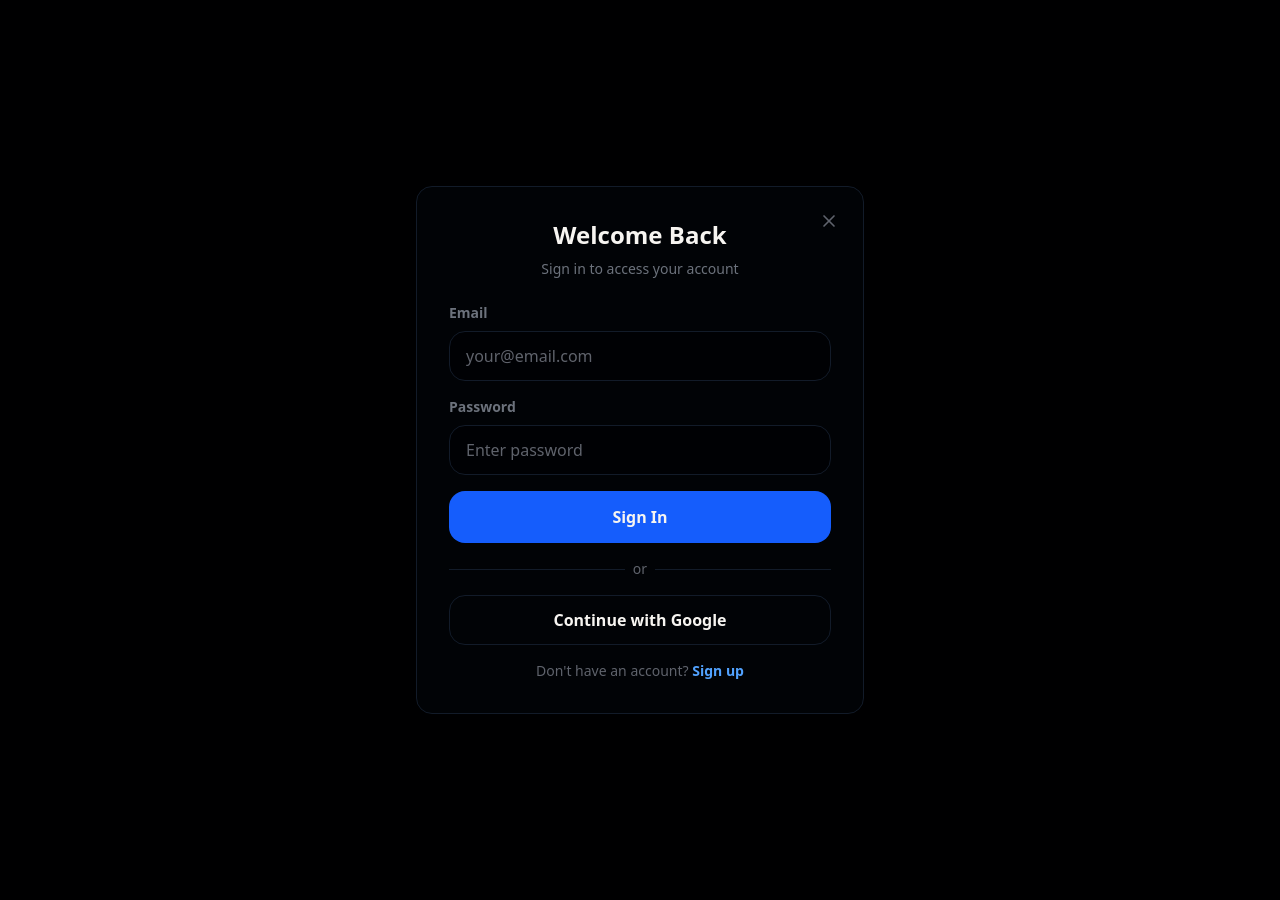
AuthModals › login form validation › shows inline error when password is empty but email is filled
Type "user@example.com" into the field with placeholder "your@email.com" at (640, 356), box [449,331,831,381]
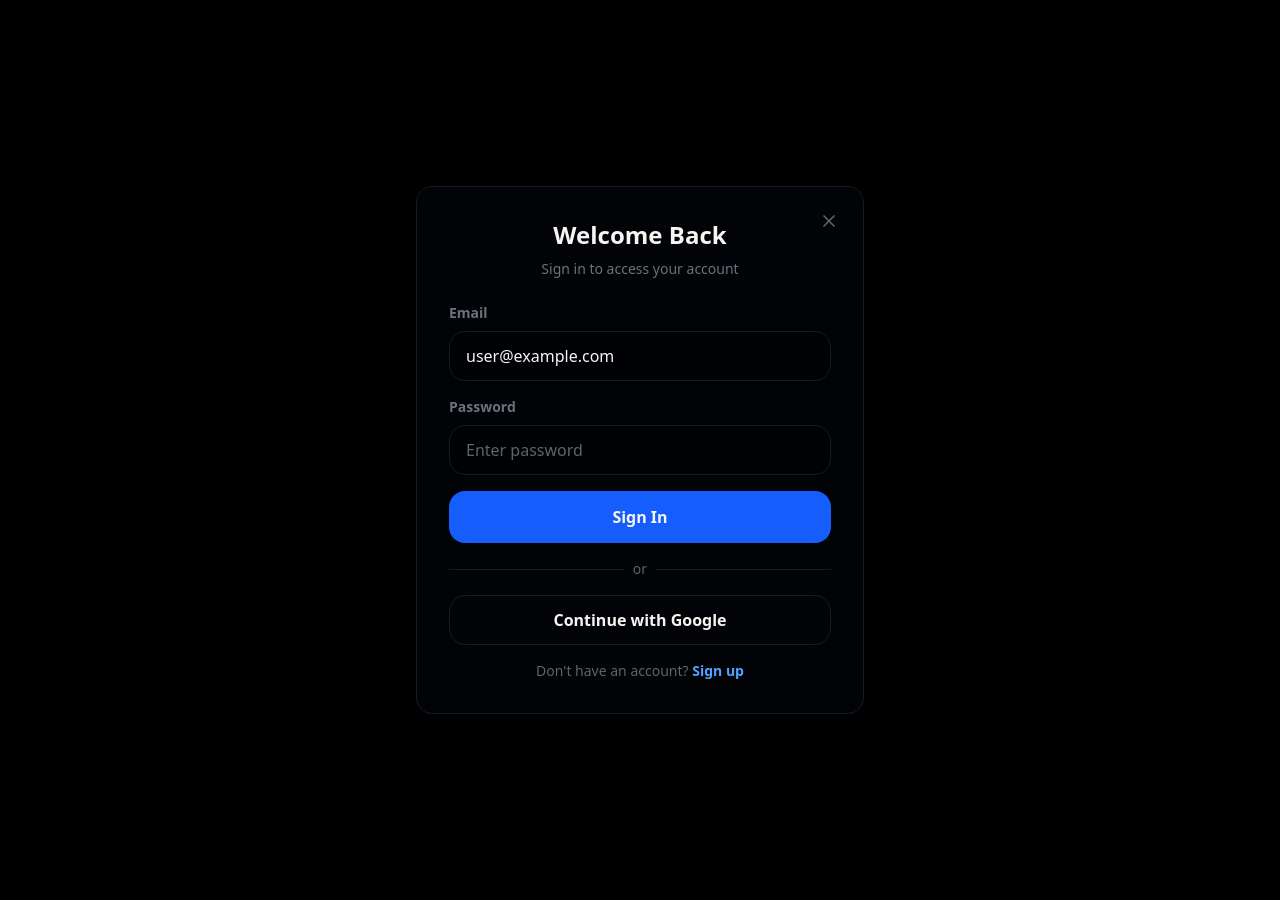
Click the button "Sign In" at (640, 517), box [449,491,831,543]
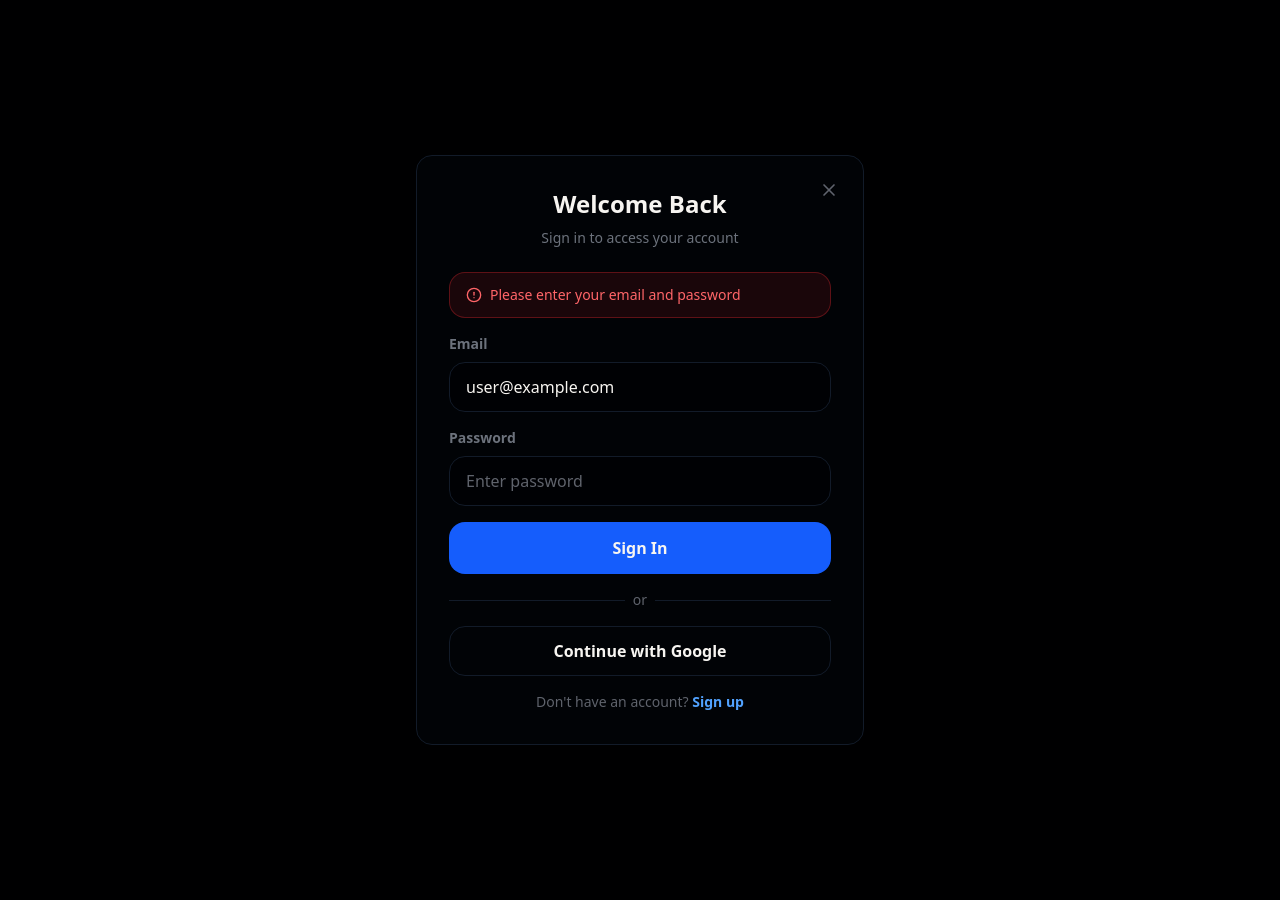
Now the text "Please enter your email and password" is shown, box [490,285,741,305]
